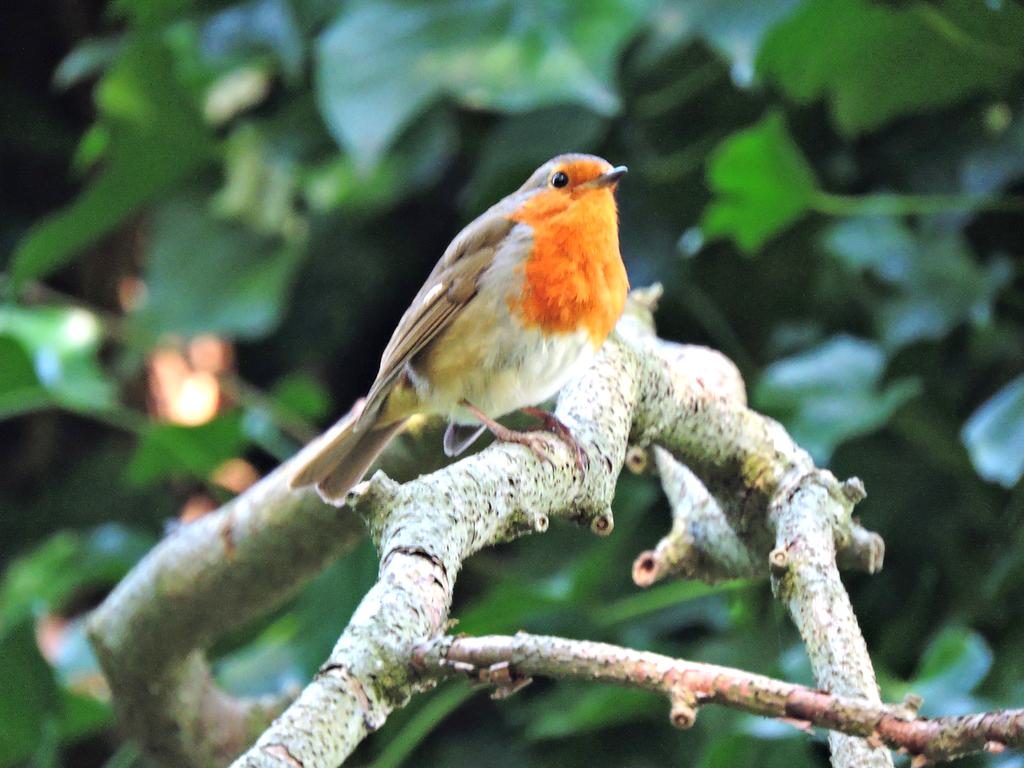ErithacusRubecula: (289, 153, 629, 506)
